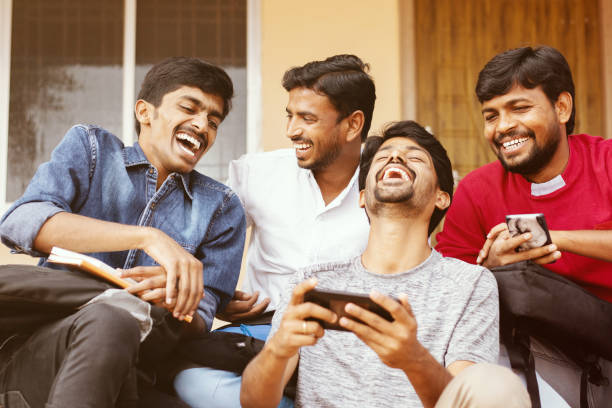men: (128, 54, 239, 179), (351, 117, 467, 234), (471, 61, 587, 178), (276, 54, 371, 171)
